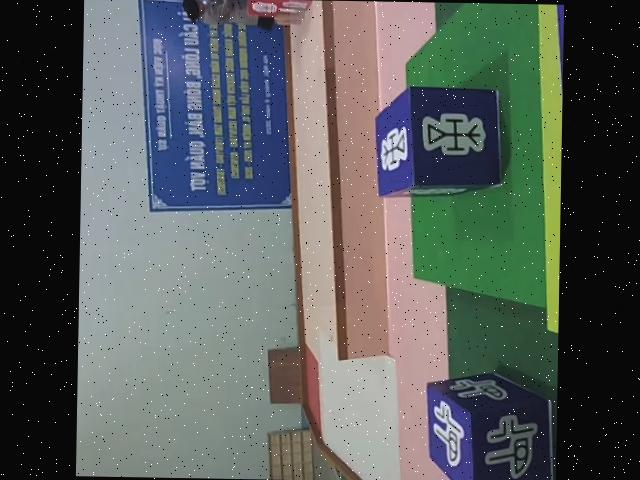R2 Real Blue: (375, 84, 505, 199), (427, 370, 558, 480)
